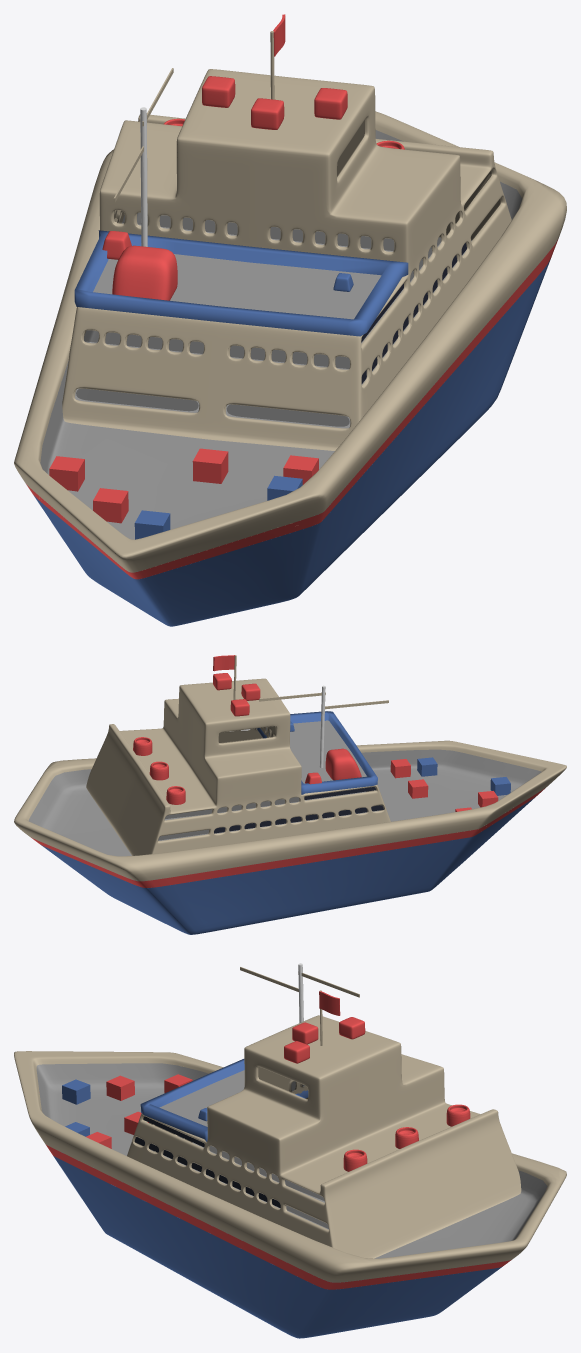
File: ferry-3d-animated-icon-538501260609.glb
The picture shows the model from 3 angles, top to bottom: view 1: azimuth 30°, elevation 25°; view 2: azimuth 150°, elevation 25°; view 3: azimuth 270°, elevation 25°; orthographic projection. The views are drawn at different scales.
Visible parts, largest first — view 1: body, box, glass, pole; view 2: body, box, glass, Chimney, pole, flag.001; view 3: body, box, glass, Chimney, pole, flag.001.
Part boxes in pixels (left/top/right/bottom): body: left=14, top=69, right=566, bottom=626; box: left=49, top=76, right=353, bottom=539; glass: left=76, top=120, right=500, bottom=426; pole: left=113, top=68, right=173, bottom=246; body: left=14, top=678, right=566, bottom=934; box: left=213, top=673, right=510, bottom=811; glass: left=158, top=726, right=383, bottom=840; Chimney: left=133, top=737, right=185, bottom=804; pole: left=259, top=685, right=388, bottom=767; flag.001: left=213, top=655, right=236, bottom=699; body: left=14, top=1015, right=566, bottom=1338; box: left=62, top=1017, right=365, bottom=1148; glass: left=134, top=1067, right=328, bottom=1228; Chimney: left=343, top=1104, right=470, bottom=1171; pole: left=240, top=963, right=359, bottom=1022; flag.001: left=319, top=990, right=340, bottom=1045.
Size of the model in its own units: 2.79 by 1.65 by 2.85.
